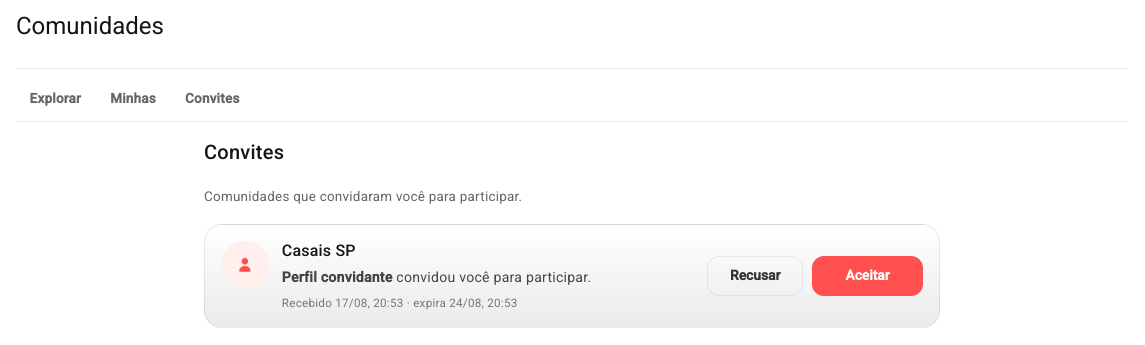
CommunityInvitesPageComponent › mostra progresso apenas no botão Aceitar durante a aceitação
The image size is (1145, 345).
Step 1. Click the button with class "community-invite-card__accept" → (868, 276), box [812,256,923,296]
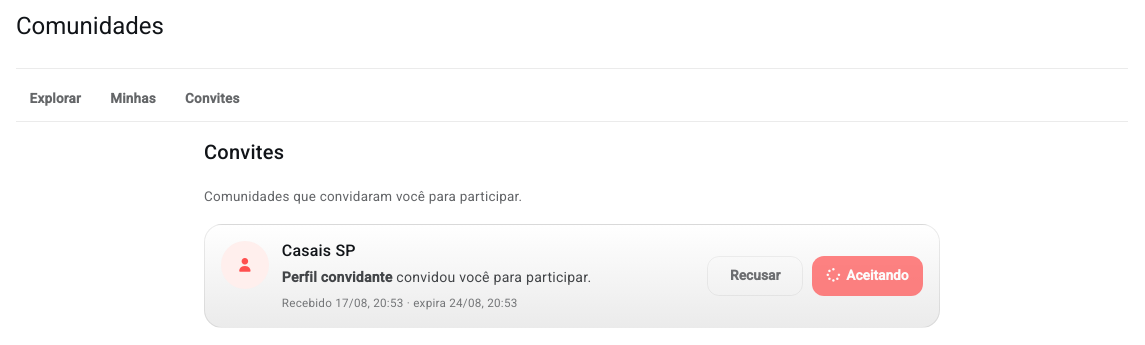
Check: the text "Recusar" is shown, box [730,269,780,283]
Check: the text "Aceitando" is shown, box [846,269,909,283]
